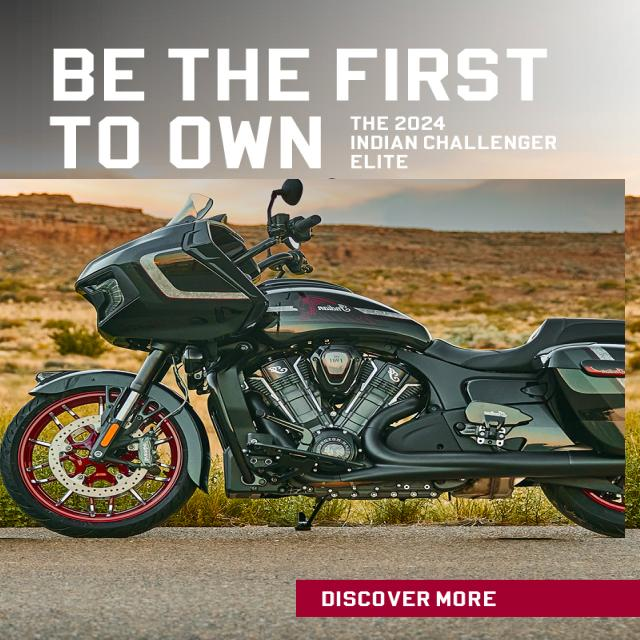motorcycle: (0, 180, 625, 538)
